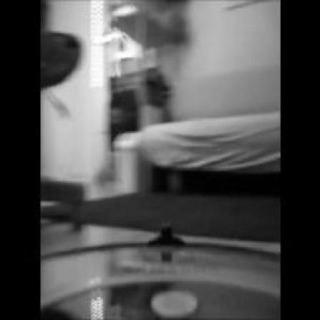other: (131, 76, 171, 132)
